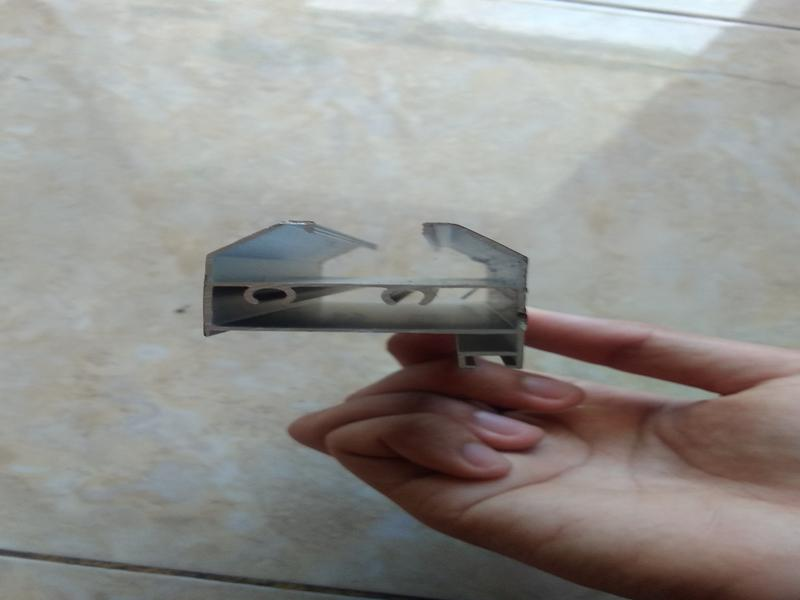Aluminium_3: (191, 198, 543, 379)
